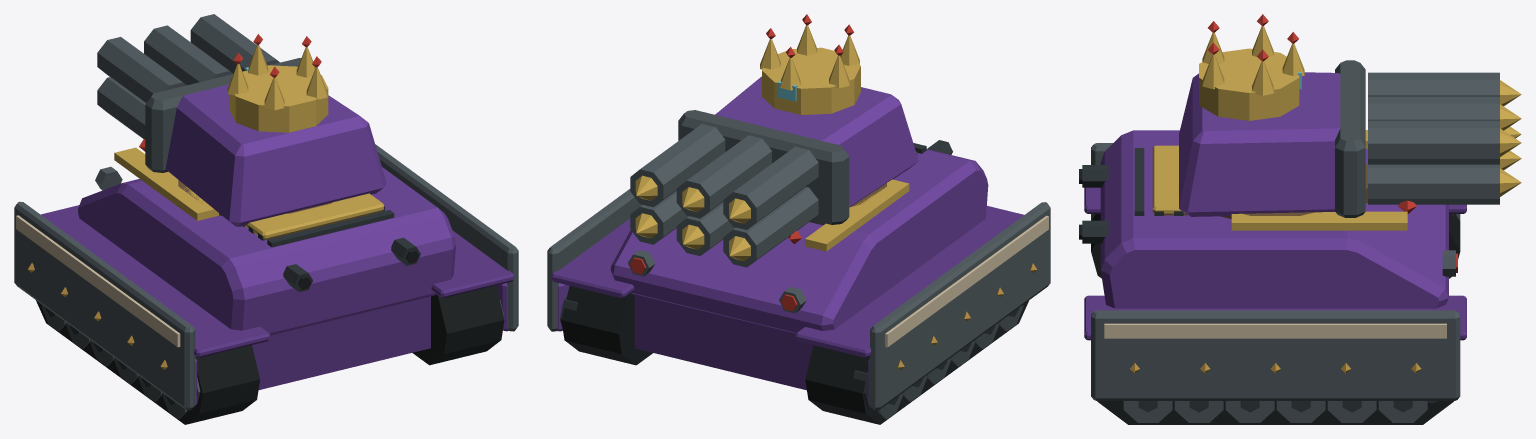
3 renders of one model, left to right at view 1: azimuth 30°, elevation 25°; view 2: azimuth 150°, elevation 25°; view 3: azimuth 270°, elevation 25°, orthographic. The views are drawn at different scales.
Parts seen in each view (by area): view 1: boss_hull_3, boss_turret_3; view 2: boss_hull_3, boss_turret_3; view 3: boss_hull_3, boss_turret_3.
Boxes of the visible parts, box(x1,y1,x2,y2) form: boss_hull_3: box(14, 139, 518, 424); boss_turret_3: box(97, 14, 386, 226); boss_hull_3: box(547, 140, 1050, 424); boss_turret_3: box(630, 14, 918, 267); boss_hull_3: box(1079, 130, 1466, 424); boss_turret_3: box(1179, 14, 1521, 218).
Bounding box in the file's own units: 0.96 × 0.7912 × 1.01.
